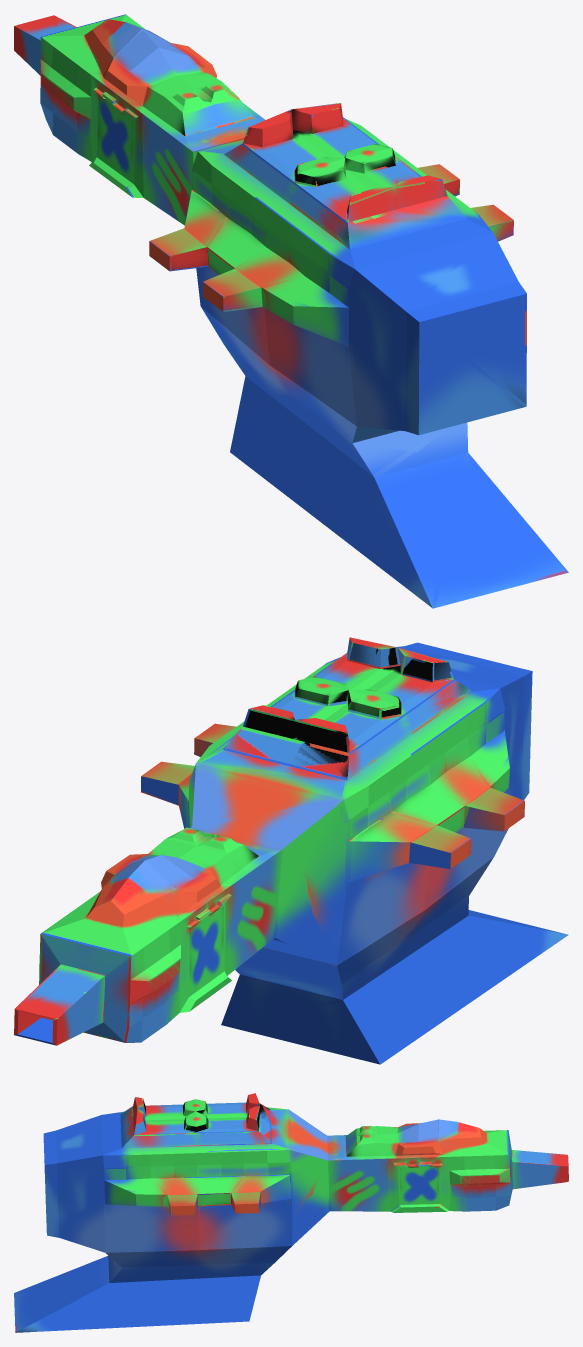
File: weapon.glb
3 renders of one model, top to bottom at view 1: azimuth 30°, elevation 25°; view 2: azimuth 150°, elevation 25°; view 3: azimuth 270°, elevation 25°, orthographic. The views are drawn at different scales.
Parts seen in each view (by area): view 1: Cube; view 2: Cube; view 3: Cube.
Part boxes in pixels (box(x1,y1,x2,y2)): Cube: box(14, 14, 568, 608); Cube: box(14, 637, 568, 1064); Cube: box(14, 1093, 568, 1332).
Size of the model in its own units: 7.2 by 7.87 by 19.2.
1 material, 1 textured.
